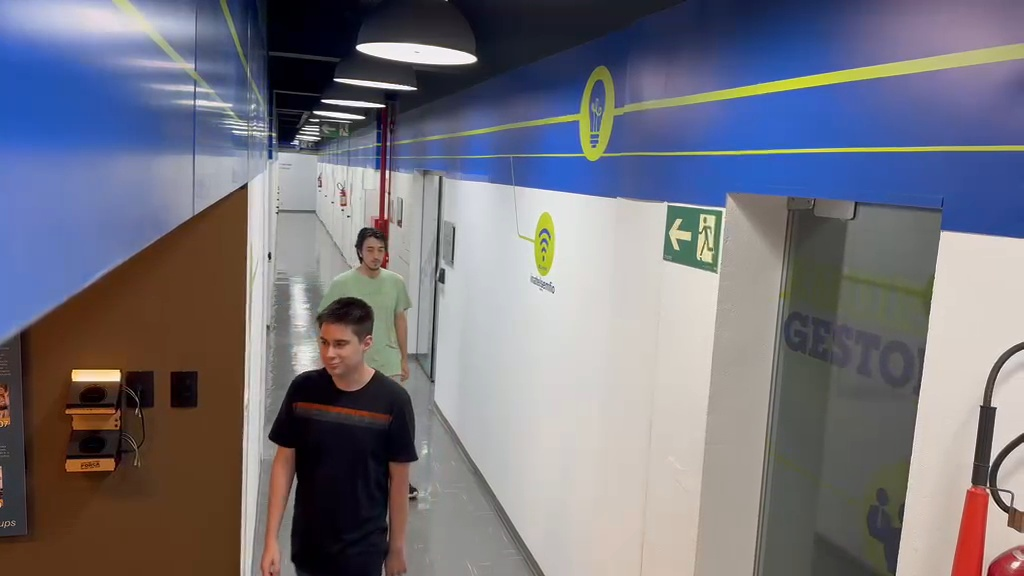person: (259, 297, 419, 574), (324, 223, 412, 379)
